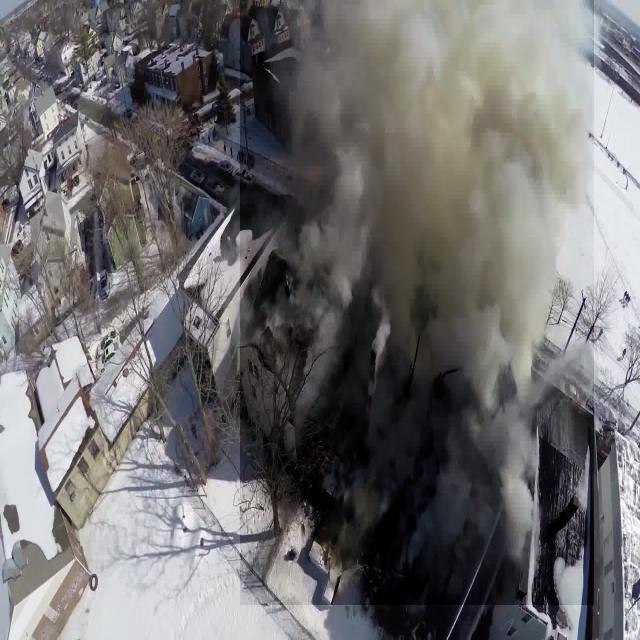Smoke: (240, 0, 594, 605)
